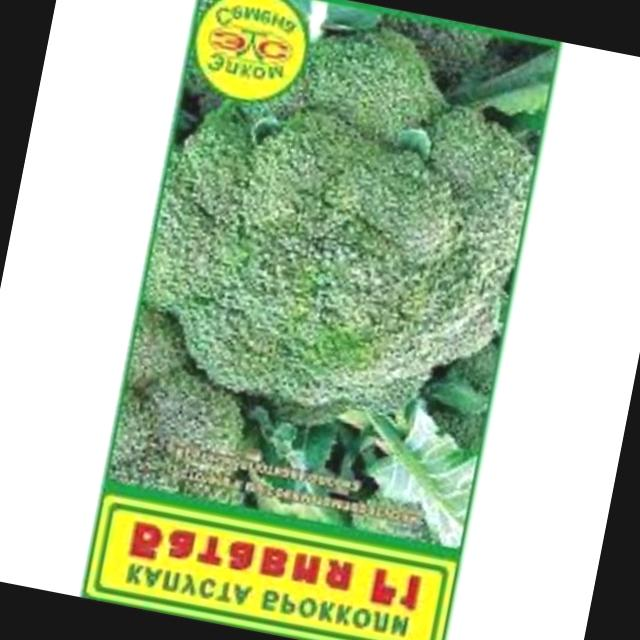Broccoli: (124, 0, 555, 464), (77, 309, 270, 521)
